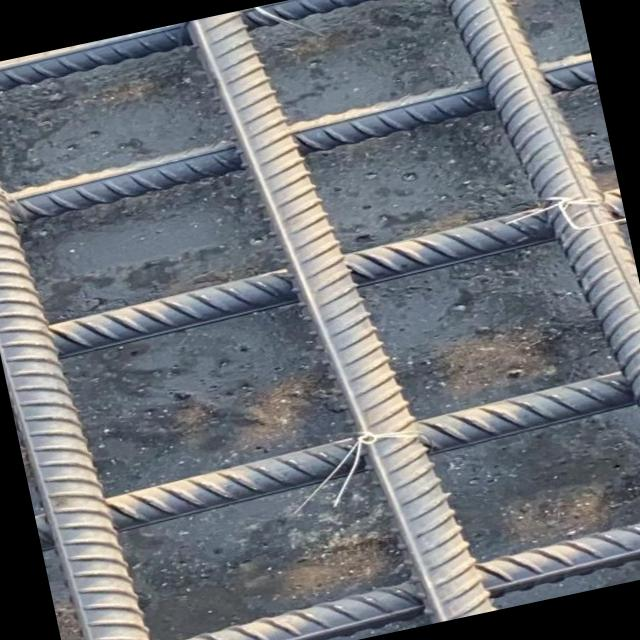ribbed bar: (178, 0, 495, 640), (421, 0, 640, 532), (5, 46, 601, 231), (30, 368, 640, 548), (39, 186, 629, 363), (0, 53, 171, 640), (61, 510, 640, 640), (0, 0, 572, 97)
